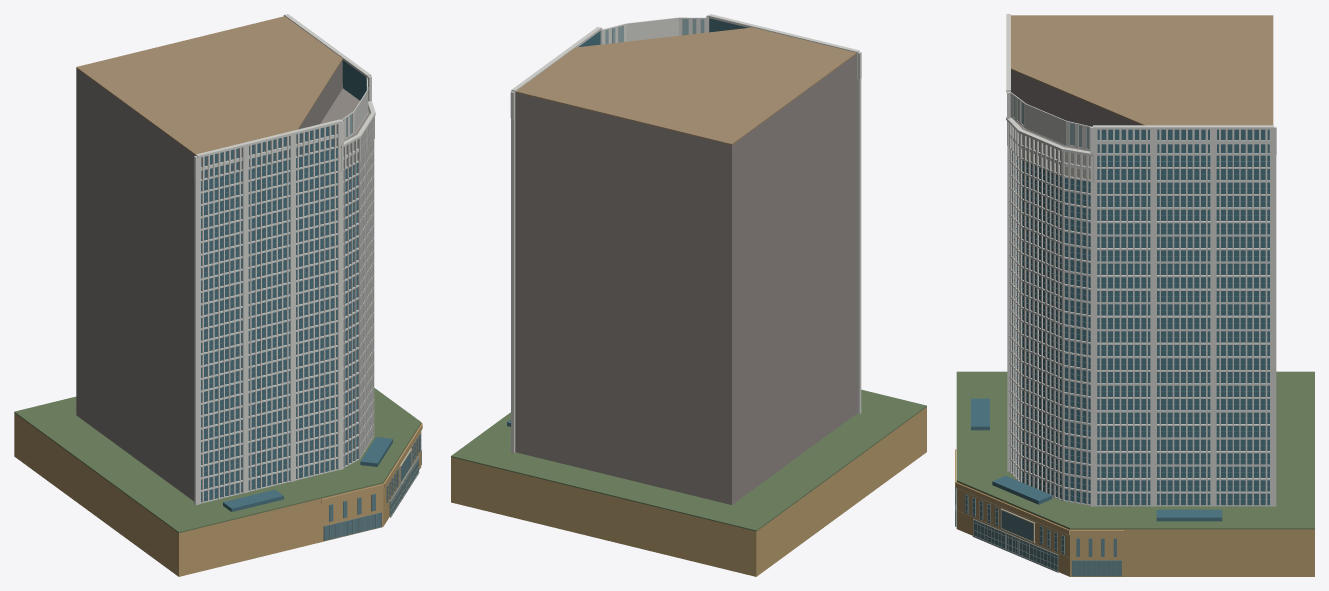
File: detail.glb
3 views of the same model, side by side, from view 1: azimuth 30°, elevation 25°; view 2: azimuth 150°, elevation 25°; view 3: azimuth 270°, elevation 25° (orthographic). The views are drawn at different scales.
Parts seen in each view (by area): view 1: KEEP_TOWER_Xinding_Observed_light_cladding, HOLD_unobserved_neutral, KEEP_TOWER_Xinding_Observed_blue_glass, HOLD_roof_geometry, H_podium_gold_appearance, Visible_terrace_simplified, H_podium_bluegray, H_podium_frame; view 2: HOLD_unobserved_neutral, HOLD_roof_geometry, H_podium_gold_appearance, Visible_terrace_simplified, KEEP_TOWER_Xinding_Observed_light_cladding; view 3: KEEP_TOWER_Xinding_Observed_light_cladding, KEEP_TOWER_Xinding_Observed_blue_glass, HOLD_roof_geometry, Visible_terrace_simplified, H_podium_gold_appearance, H_podium_bluegray, HOLD_unobserved_neutral, H_podium_frame, Observed_pale_crown_backing_uncertain.
Part boxes in pixels (x1=…): KEEP_TOWER_Xinding_Observed_light_cladding: x1=194, y1=14, x2=375, y2=504; HOLD_unobserved_neutral: x1=76, y1=60, x2=369, y2=501; KEEP_TOWER_Xinding_Observed_blue_glass: x1=201, y1=60, x2=392, y2=511; HOLD_roof_geometry: x1=76, y1=16, x2=342, y2=155; H_podium_gold_appearance: x1=14, y1=413, x2=422, y2=576; Visible_terrace_simplified: x1=14, y1=388, x2=421, y2=532; H_podium_bluegray: x1=323, y1=434, x2=420, y2=540; H_podium_frame: x1=324, y1=434, x2=421, y2=540; HOLD_unobserved_neutral: x1=515, y1=54, x2=856, y2=504; HOLD_roof_geometry: x1=515, y1=27, x2=856, y2=145; H_podium_gold_appearance: x1=451, y1=407, x2=926, y2=576; Visible_terrace_simplified: x1=451, y1=389, x2=926, y2=531; KEEP_TOWER_Xinding_Observed_light_cladding: x1=510, y1=14, x2=861, y2=453; KEEP_TOWER_Xinding_Observed_light_cladding: x1=1006, y1=14, x2=1276, y2=506; KEEP_TOWER_Xinding_Observed_blue_glass: x1=971, y1=129, x2=1269, y2=521; HOLD_roof_geometry: x1=1011, y1=15, x2=1273, y2=125; Visible_terrace_simplified: x1=956, y1=371, x2=1314, y2=529; H_podium_gold_appearance: x1=955, y1=449, x2=1314, y2=576; H_podium_bluegray: x1=955, y1=487, x2=1121, y2=576; HOLD_unobserved_neutral: x1=1011, y1=70, x2=1141, y2=151; H_podium_frame: x1=955, y1=487, x2=1121, y2=576; Observed_pale_crown_backing_uncertain: x1=1022, y1=135, x2=1090, y2=179.
Bounding box in the file's own units: 62.27 × 79.22 × 60.27.
